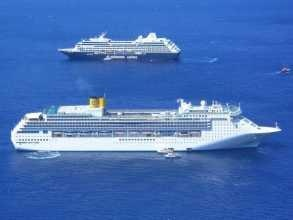youlun: (10, 94, 282, 155), (57, 29, 185, 59)
